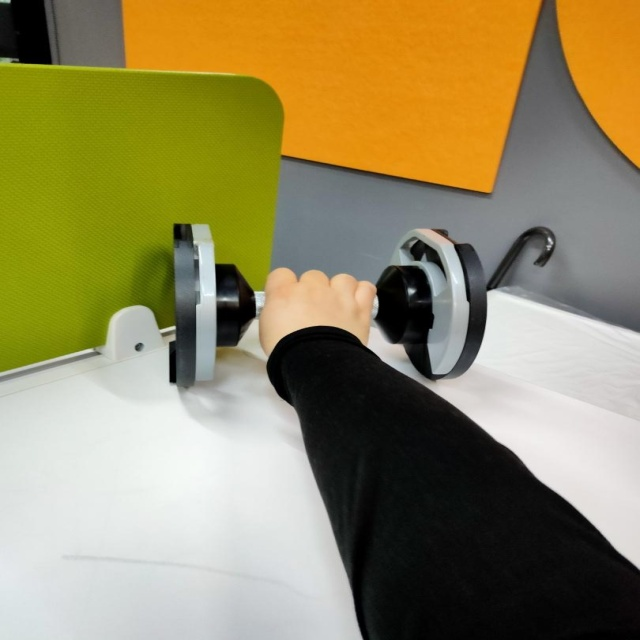02-4kg: (169, 223, 488, 384)
